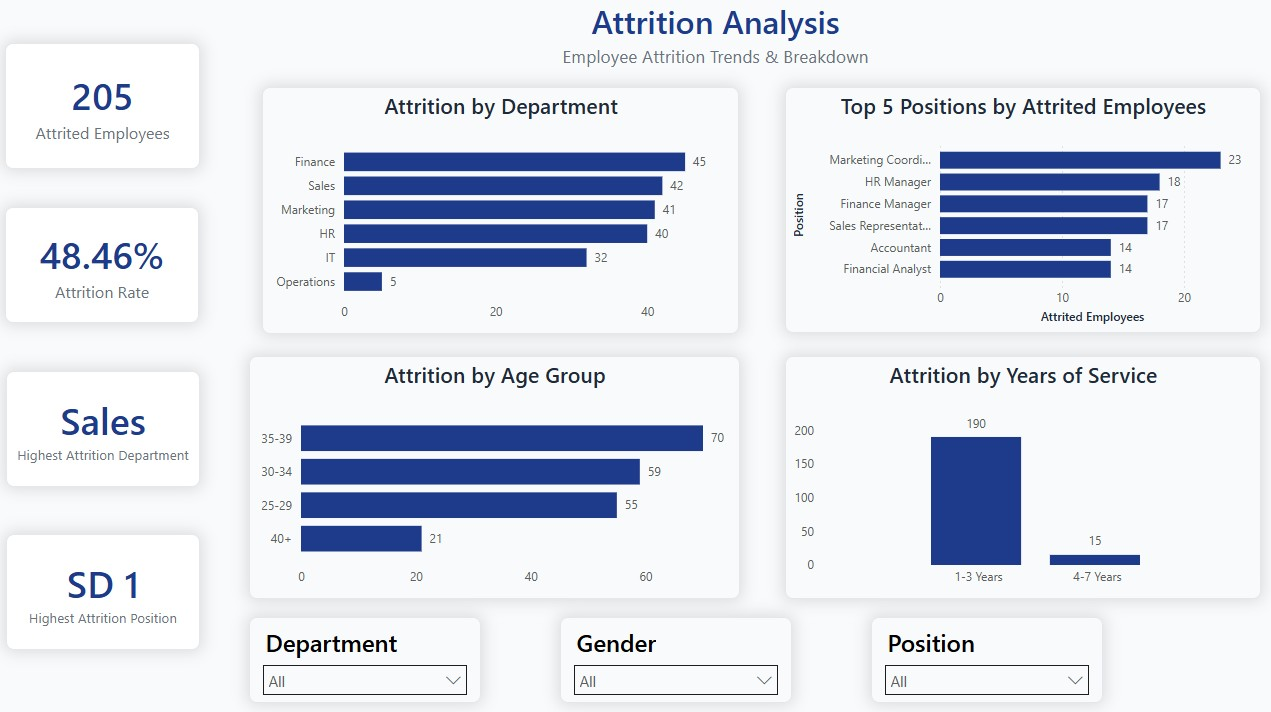

Layout of this report page (visuals, bound fields, positions):
{"tool":"powerbi","page":{"name":"Attrition  Analysis","canvas":[1280,720],"ordinal":1},"visuals":[{"type":"textbox","title":"Attrition Analysis","box":[486,0,469.7,114.3],"z":0},{"type":"card","fields":{"Values":["hr_data_cleaned.Attrited Employees"]},"box":[10,44.4,195,125.1],"z":1000},{"type":"card","fields":{"Values":["hr_data_cleaned.Attrition Rate"]},"box":[10,208.1,194.1,116],"z":2000},{"type":"card","fields":{"Values":["hr_data_cleaned.Highest Attrition Department"]},"box":[10.9,371.8,194,116],"z":3000},{"type":"card","fields":{"Values":["hr_data_cleaned.Highest Attirtion Position"]},"box":[10.7,535.4,194,116],"z":4000},{"type":"clusteredBarChart","title":"Attrition by Department ","fields":{"Category":["hr_analytics hr_data_cleaned.Department"],"Y":["hr_data_cleaned.Attrited Employees"]},"box":[266.6,88,477.9,246.6],"z":5000},{"type":"clusteredBarChart","title":"Top 5 Positions by Attrited Employees","fields":{"Category":["hr_data_cleaned.Position"],"Y":["hr_data_cleaned.Attrited Employees"]},"box":[790.2,87.9,476.3,246.3],"z":6000},{"type":"clusteredBarChart","title":"Attrition by Age Group","fields":{"Category":["hr_analytics hr_data_cleaned.Age Group"],"Y":["hr_data_cleaned.Attrited Employees"]},"box":[253.9,357.3,490.9,243],"z":7000},{"type":"clusteredColumnChart","title":"Attrition by Years of Service","fields":{"Category":["hr_data_cleaned.Tenure Group"],"Y":["hr_data_cleaned.Attirtion Count"]},"box":[790.2,357.4,476.3,242.5],"z":8000},{"type":"slicer","fields":{"Values":["hr_analytics hr_data_cleaned.Department"]},"box":[253.9,617.5,232.1,86.1],"z":9000},{"type":"slicer","fields":{"Values":["hr_analytics hr_data_cleaned.Gender"]},"box":[564.9,617.5,232.1,86.1],"z":10000},{"type":"slicer","fields":{"Values":["hr_analytics hr_data_cleaned.Position"]},"box":[876,617.5,232.1,86.1],"z":11000}]}

Visuals, with their boxes in screenshot pixels (x1, y1, x2, y2), scaled from the page's 1280x720 canvas onto the 1271x712 screenshot:
"Attrition Analysis" textbox: pyautogui.locateOnScreen(483, 0, 949, 113)
card - hr_data_cleaned.Attrited Employees: pyautogui.locateOnScreen(10, 44, 204, 168)
card - hr_data_cleaned.Attrition Rate: pyautogui.locateOnScreen(10, 206, 203, 320)
card - hr_data_cleaned.Highest Attrition Department: pyautogui.locateOnScreen(11, 368, 203, 482)
card - hr_data_cleaned.Highest Attirtion Position: pyautogui.locateOnScreen(11, 529, 203, 644)
"Attrition by Department " clusteredBarChart: pyautogui.locateOnScreen(265, 87, 739, 331)
"Top 5 Positions by Attrited Employees" clusteredBarChart: pyautogui.locateOnScreen(785, 87, 1258, 330)
"Attrition by Age Group" clusteredBarChart: pyautogui.locateOnScreen(252, 353, 740, 594)
"Attrition by Years of Service" clusteredColumnChart: pyautogui.locateOnScreen(785, 353, 1258, 593)
slicer - hr_analytics hr_data_cleaned.Department: pyautogui.locateOnScreen(252, 611, 483, 696)
slicer - hr_analytics hr_data_cleaned.Gender: pyautogui.locateOnScreen(561, 611, 791, 696)
slicer - hr_analytics hr_data_cleaned.Position: pyautogui.locateOnScreen(870, 611, 1100, 696)
